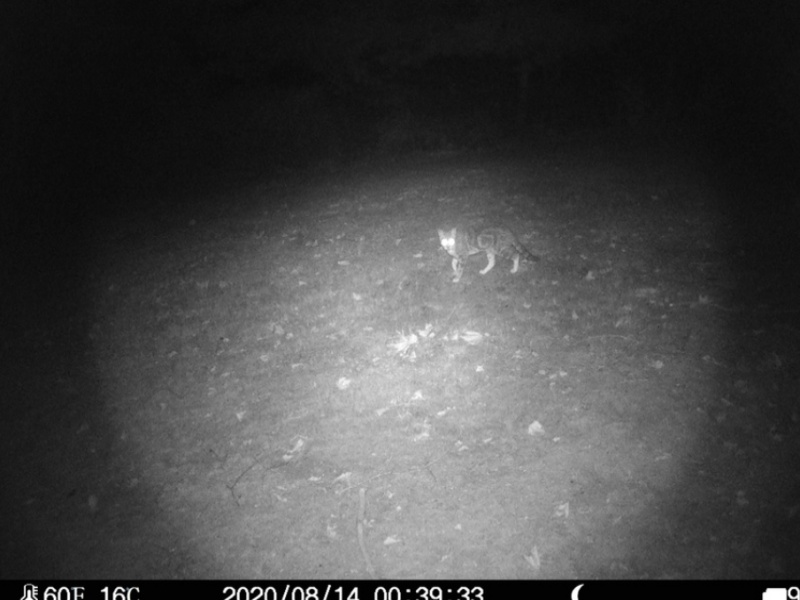cat: (434, 221, 541, 277)
